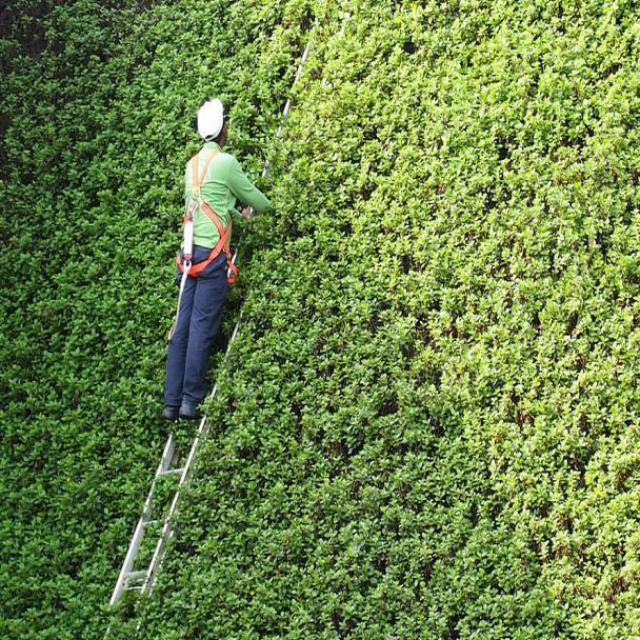helmet: (194, 98, 237, 142)
vest: (172, 154, 242, 281)
